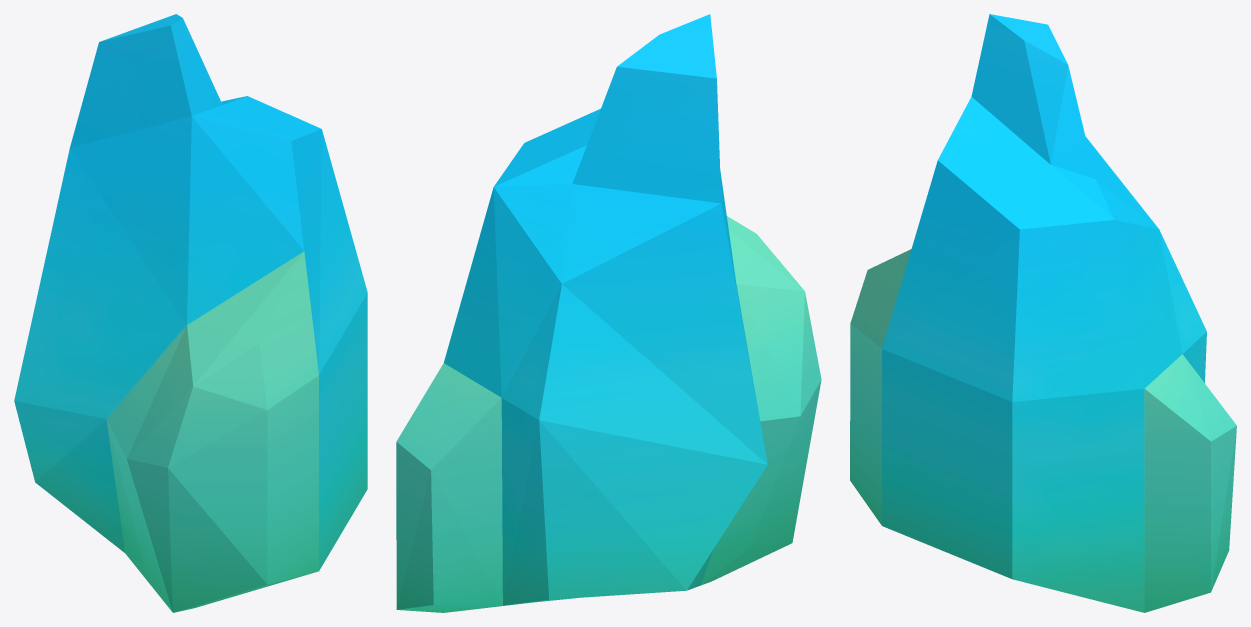
File: SM_APP_Lush_Rock_medium.glb
The picture shows the model from 3 angles, left to right: view 1: azimuth 30°, elevation 25°; view 2: azimuth 150°, elevation 25°; view 3: azimuth 270°, elevation 25°; orthographic projection. The views are drawn at different scales.
Visible parts, largest first — view 1: SM_APP_Lush_Rock_medium; view 2: SM_APP_Lush_Rock_medium; view 3: SM_APP_Lush_Rock_medium.
Boxes of the visible parts, x1=… form: SM_APP_Lush_Rock_medium: x1=14, y1=14, x2=367, y2=612; SM_APP_Lush_Rock_medium: x1=396, y1=14, x2=821, y2=612; SM_APP_Lush_Rock_medium: x1=850, y1=14, x2=1236, y2=612.
Bounding box in the file's own units: 3.2 × 5.57 × 3.75.
Materials: 1 (1 with a texture image).
